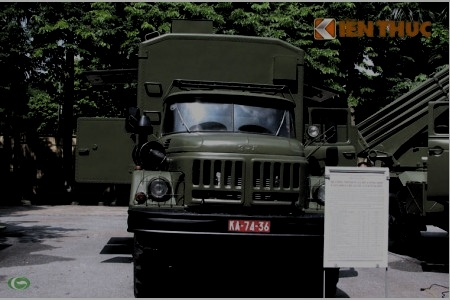plate: (225, 214, 272, 236)
